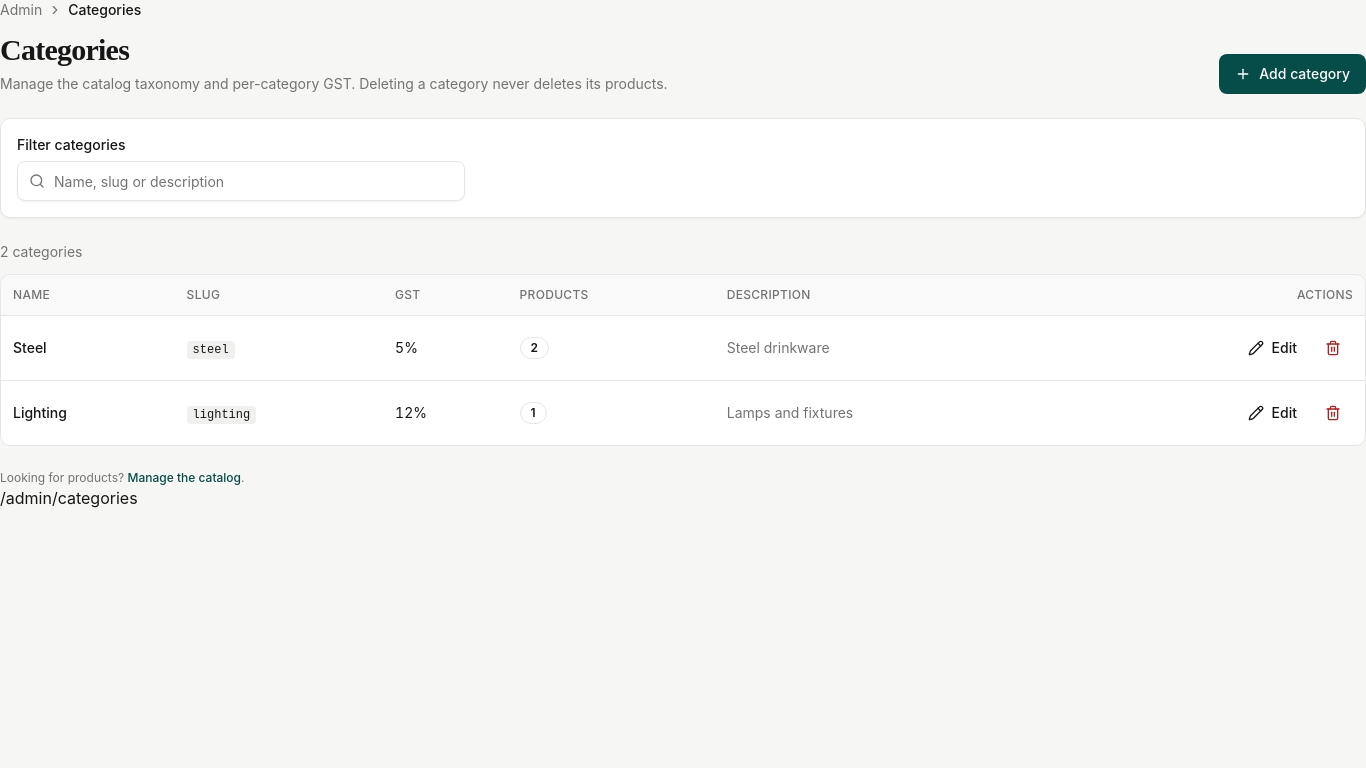
Test case: AdminCategoriesPage › confirms deletion and explains that products are only unlinked
Click the button named "Delete Steel".
click(1333, 348)  # box [1313,328,1353,368]
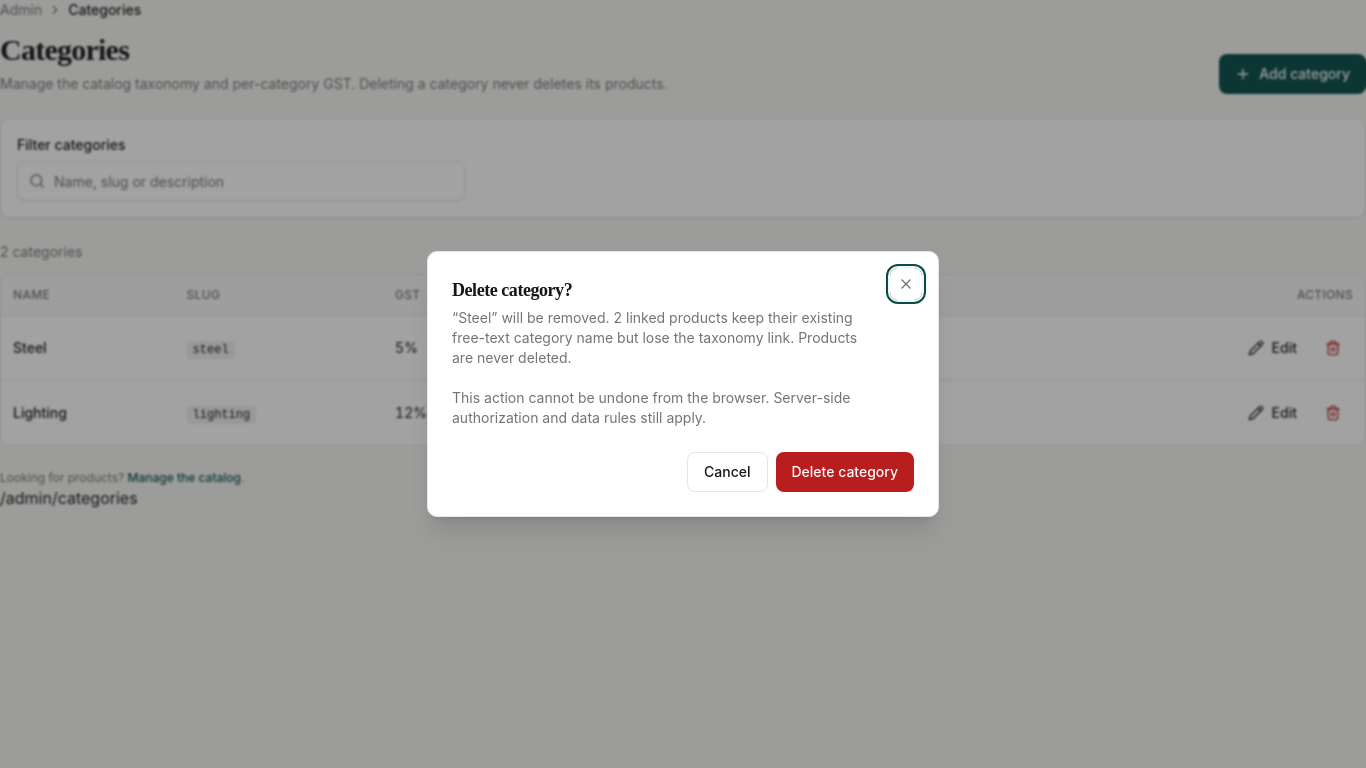
Expected: the heading "Delete category?" is shown, [452,280,572,300]
Expected: the text "2 linked products" is shown, [452,309,857,366]
Click the button "Delete category".
click(845, 472)  # box [776,452,914,492]
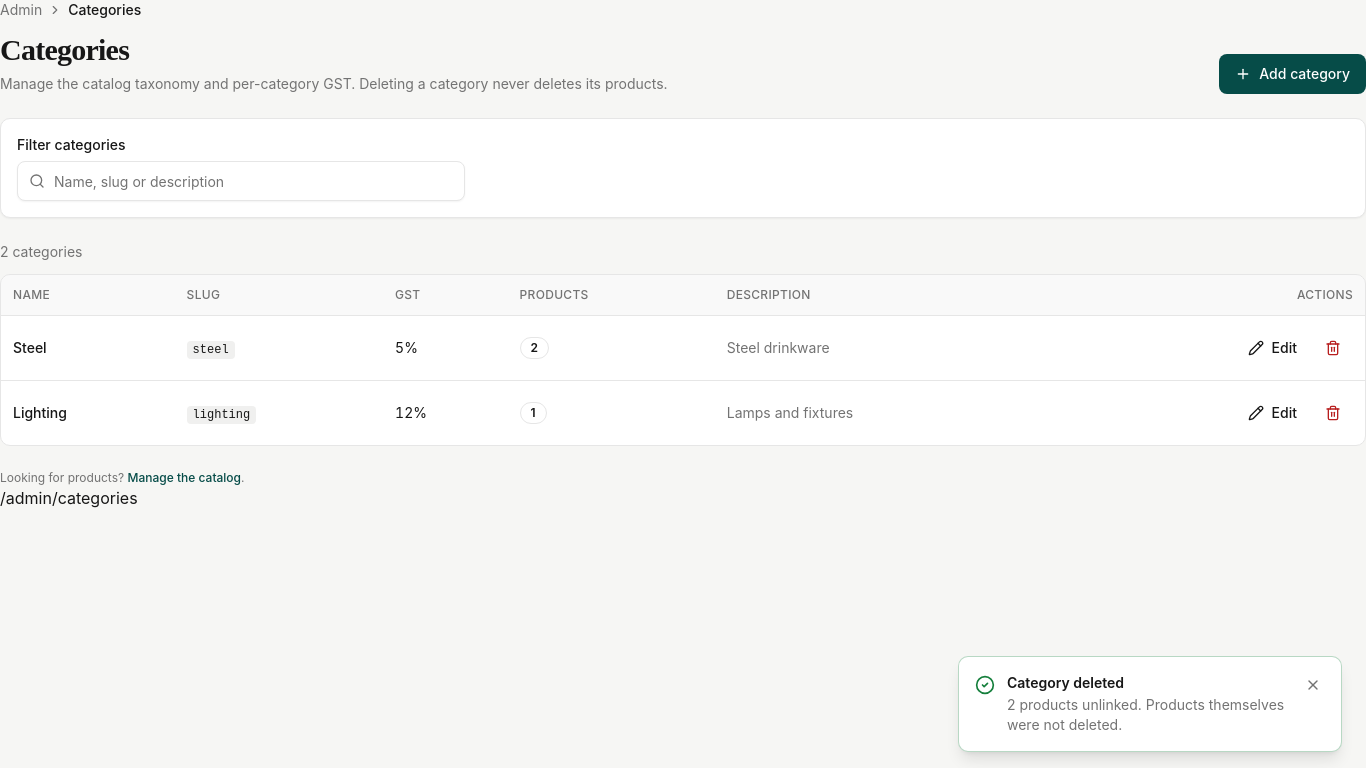
Expected: the text "Category deleted" is shown, [1007,674,1124,691]
Expected: the text "2 products unlinked. Products themselves were not deleted." is shown, [1007,695,1285,735]
